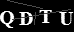D: (18, 11, 33, 26)
Q: (1, 11, 14, 29)
T: (38, 9, 54, 24)
U: (57, 11, 74, 26)
